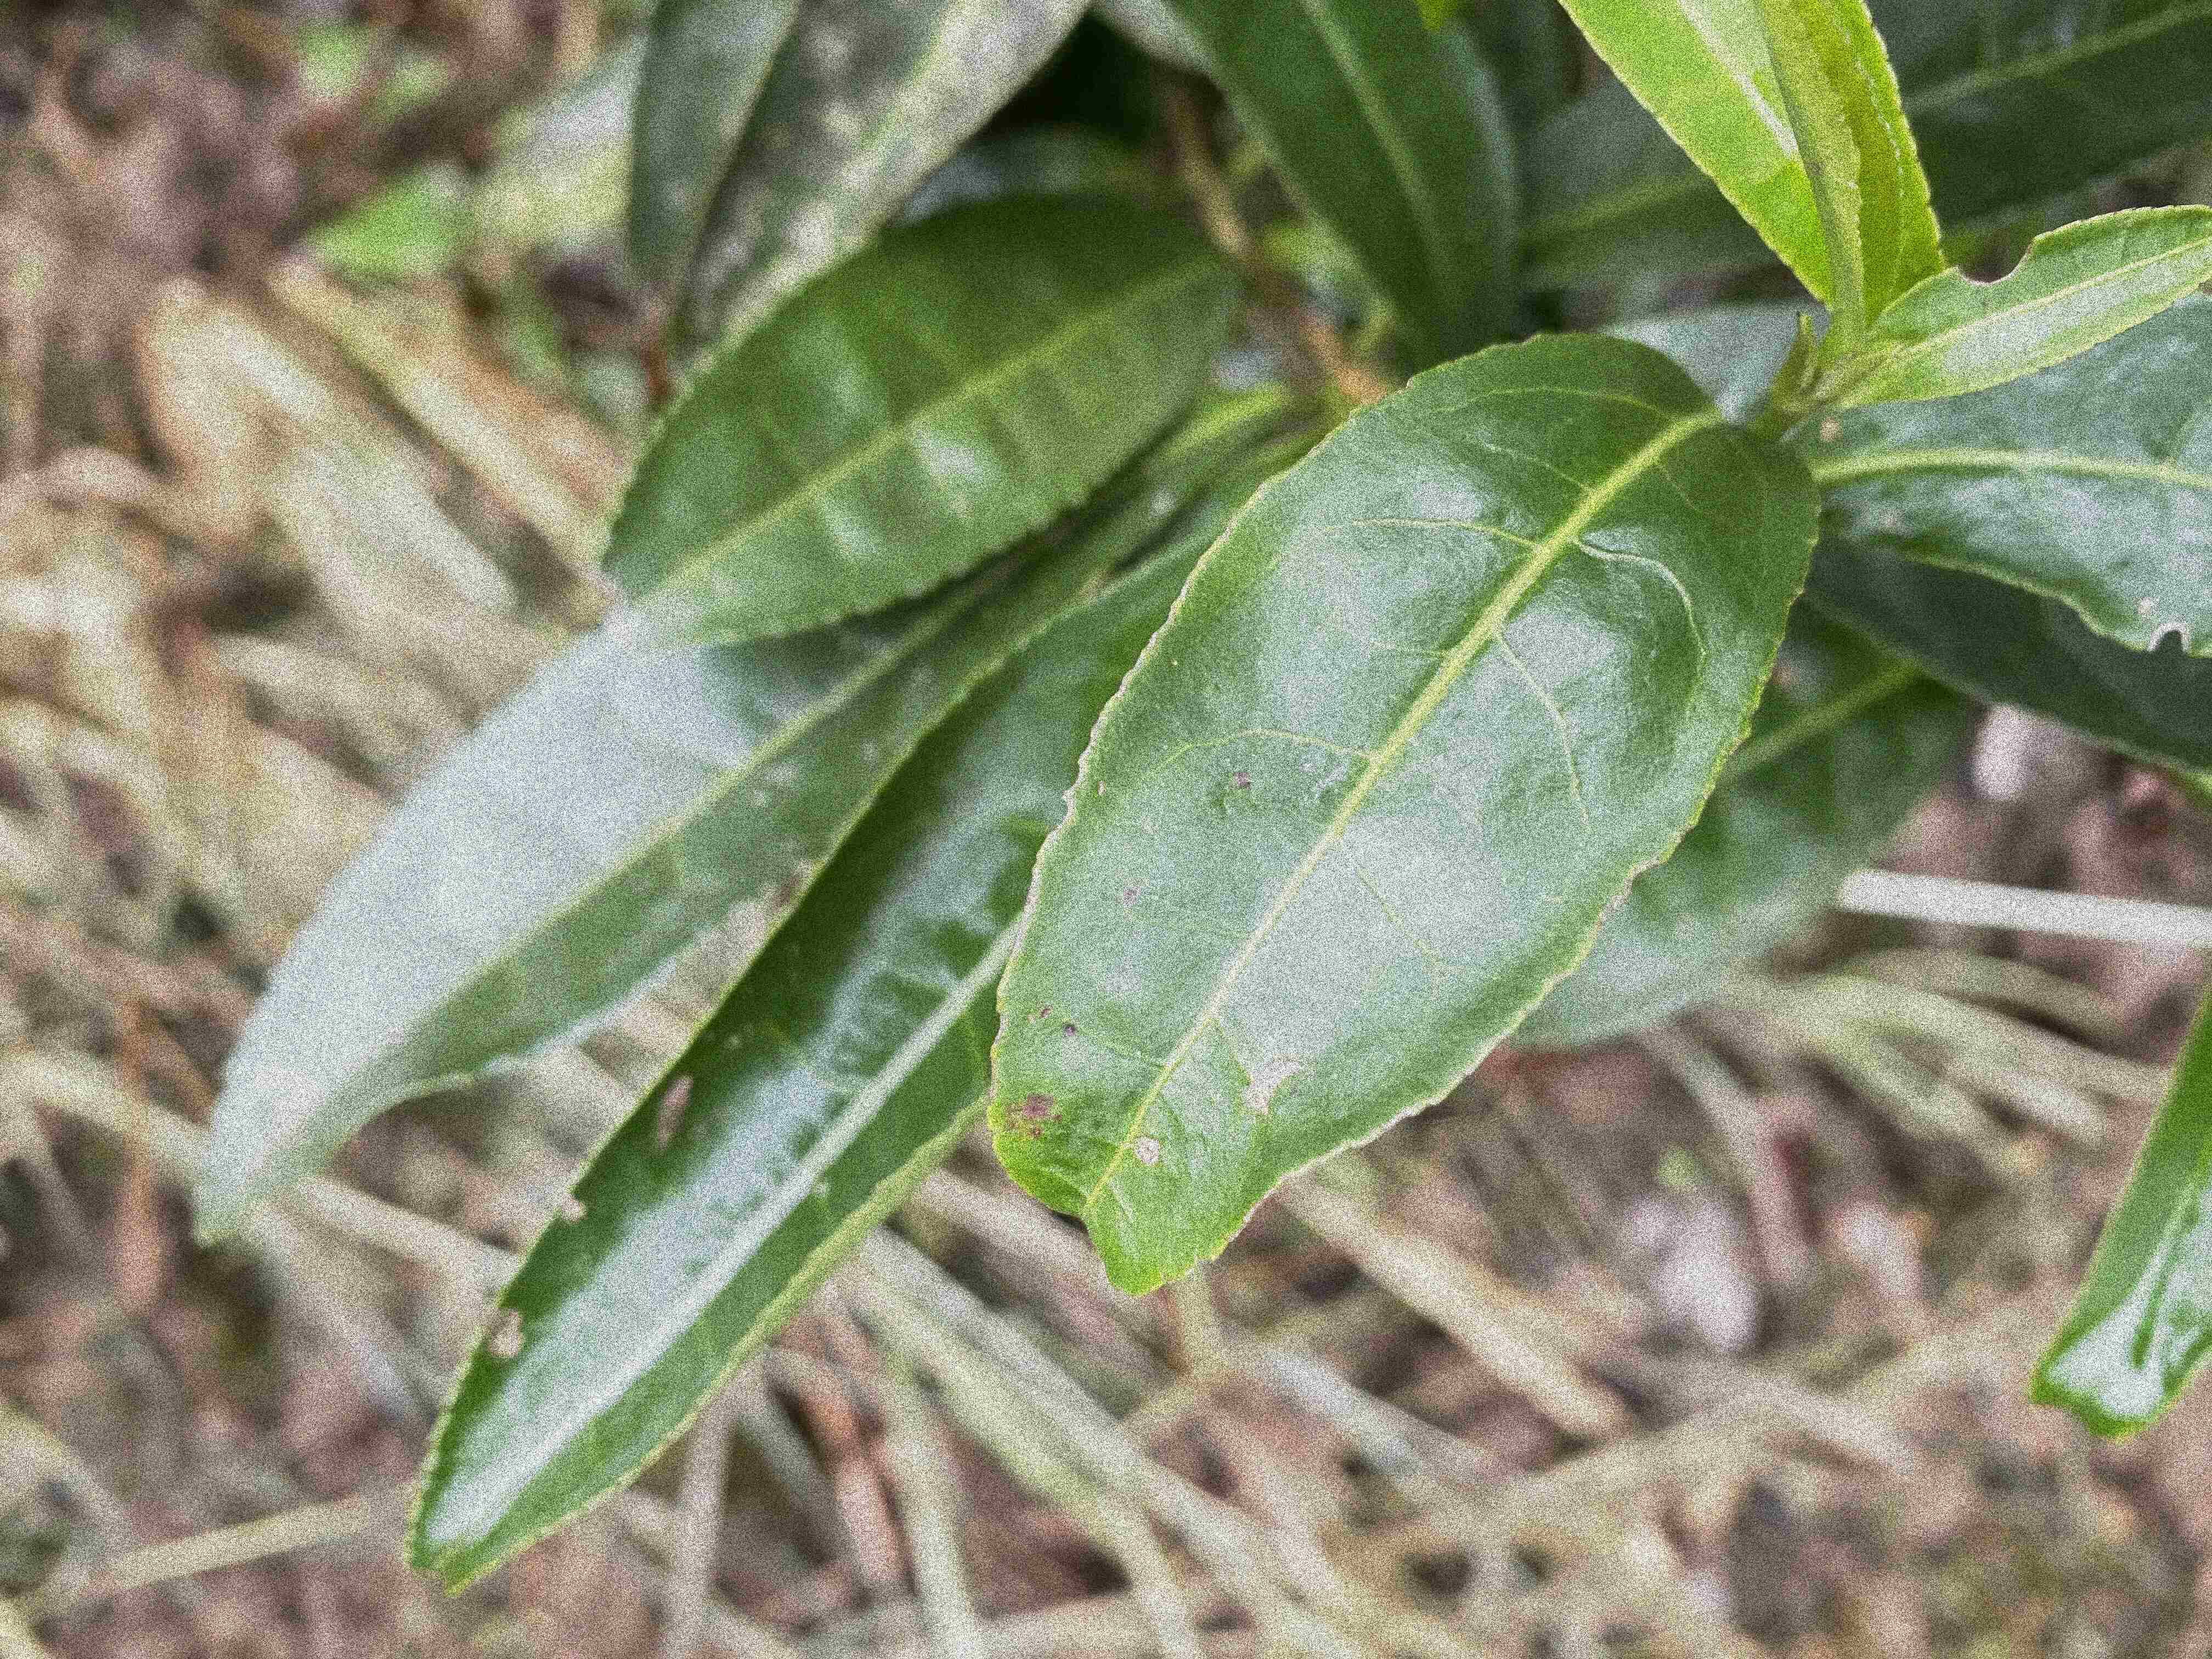chihuo_low: (1806, 333, 2212, 657), (1858, 206, 2210, 408)
